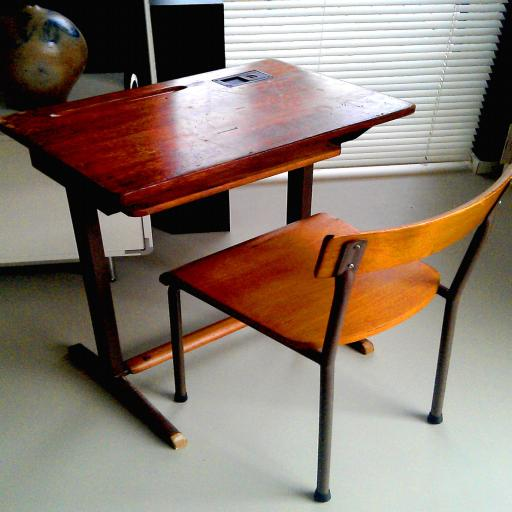chair: (157, 167, 512, 502)
desk: (0, 57, 416, 450)
